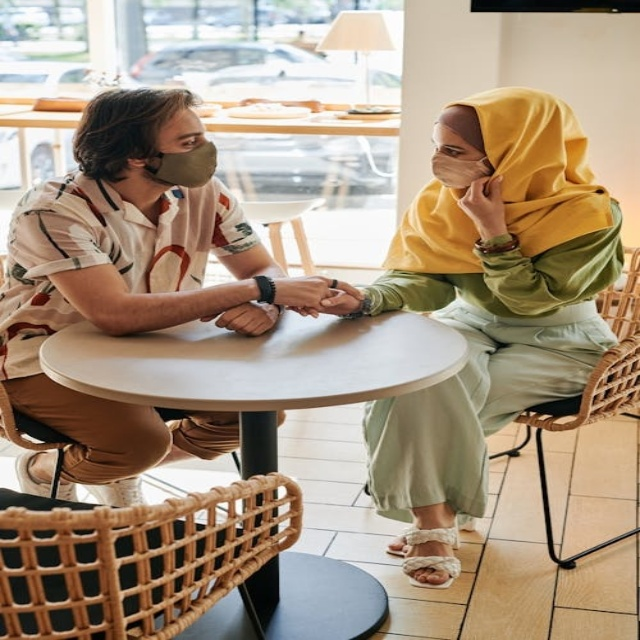Mascara: (146, 141, 219, 187), (430, 149, 493, 188)
Sin_gafas: (164, 125, 210, 151), (429, 137, 476, 157)
Sin_guantes: (271, 271, 360, 321), (453, 173, 511, 229), (201, 300, 274, 340)
